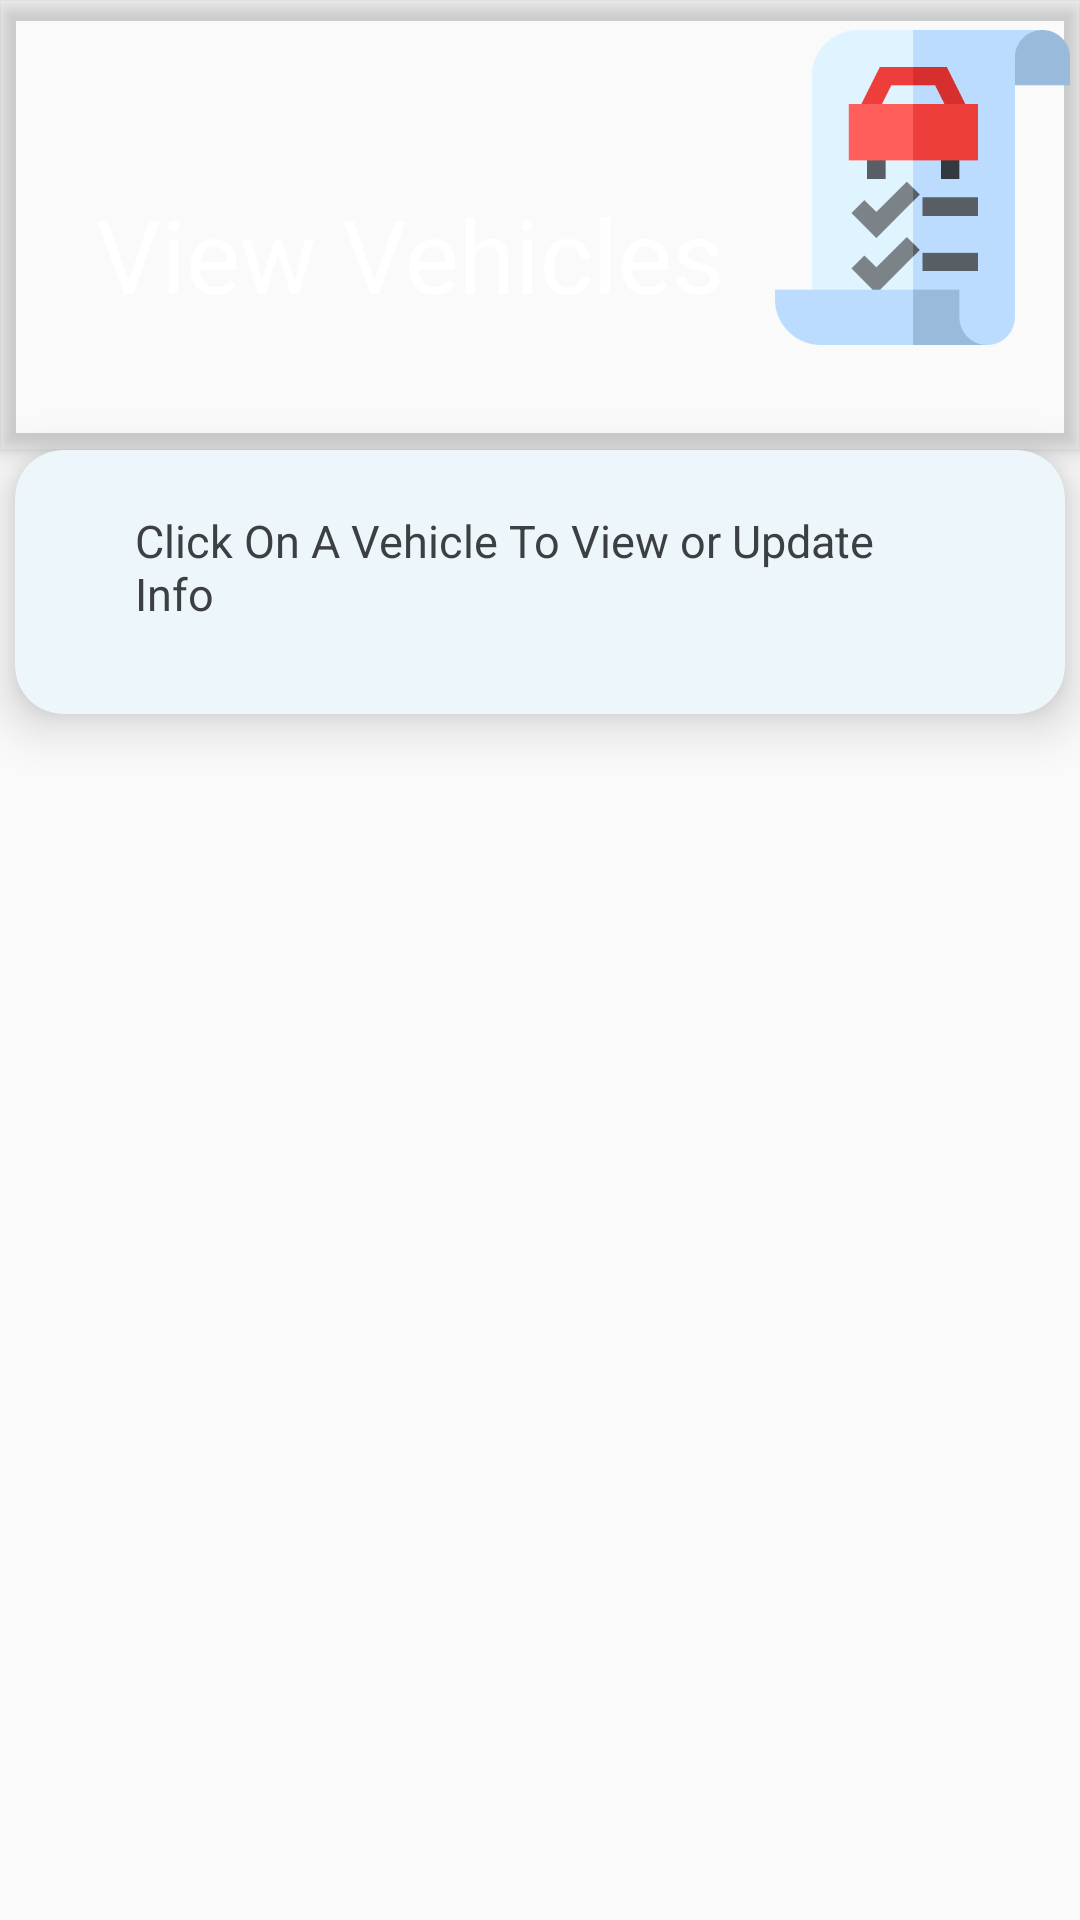

Icon bounding boxes for this 1080px×1920px phone screenshot, format bbox=(x1, y1, x2, y2):
checklist: bbox=(775, 30, 1080, 345)
